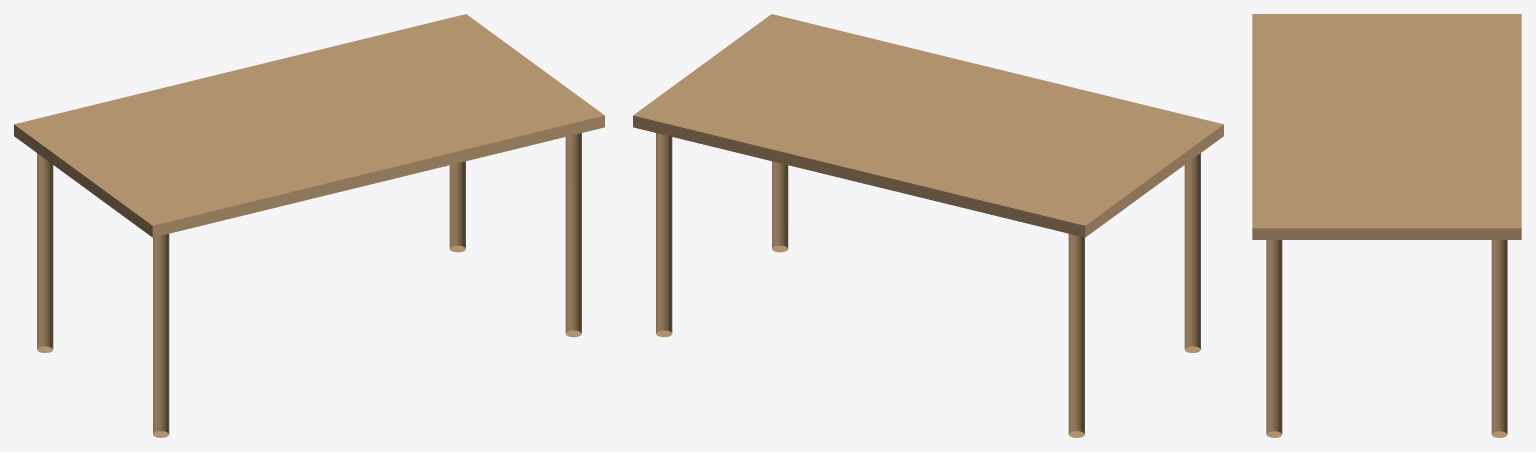
The model's file is dining_table_01.glb.
3 views of the same model, side by side, from view 1: azimuth 30°, elevation 25°; view 2: azimuth 150°, elevation 25°; view 3: azimuth 270°, elevation 25° (orthographic). The views are drawn at different scales.
Bounding box in the file's own units: 1.6 × 0.75 × 0.85.
